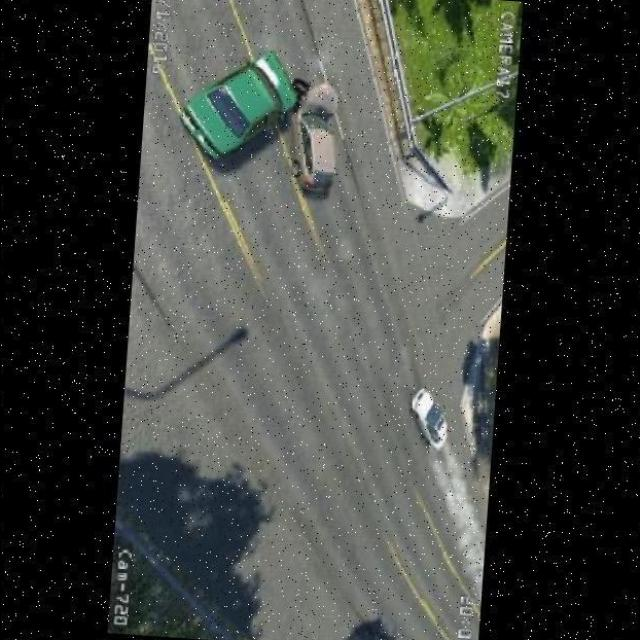accident: (183, 44, 355, 208)
